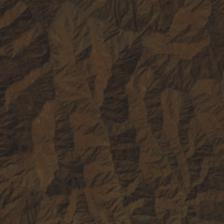landslides: (99, 21, 104, 41)
